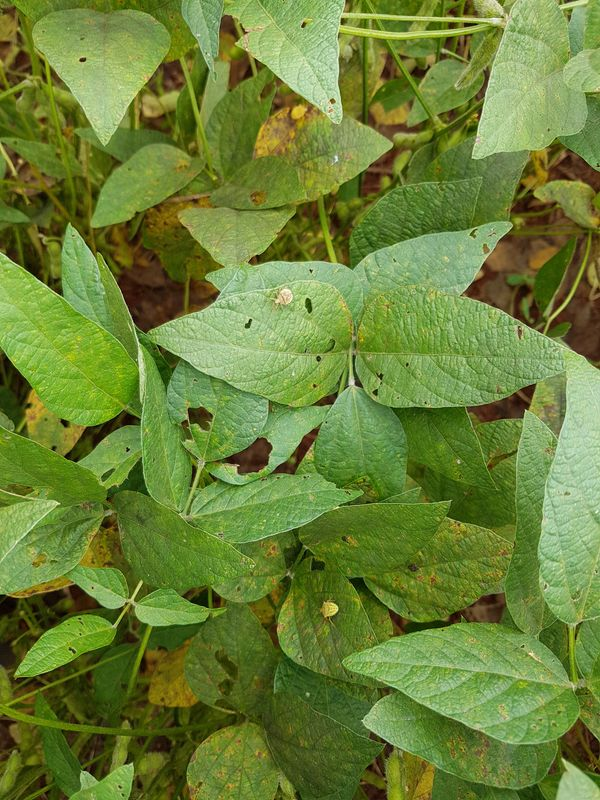Euschistus_heros_ninfa: (265, 281, 299, 314), (311, 595, 347, 626)
